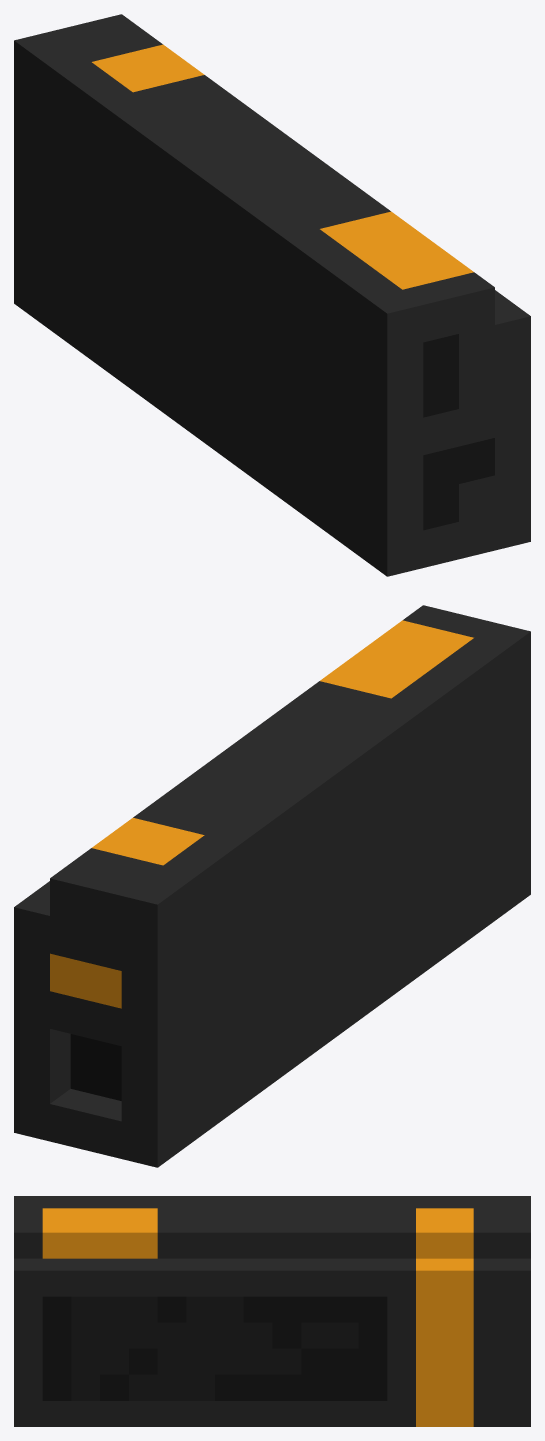
Rendered from Battery.obj.
3 views of the same model, one above another, from view 1: azimuth 30°, elevation 25°; view 2: azimuth 150°, elevation 25°; view 3: azimuth 270°, elevation 25° (orthographic). The views are drawn at different scales.
Size of the model in its own units: 0.4 by 0.7 by 1.8.
1 material, 1 textured.
